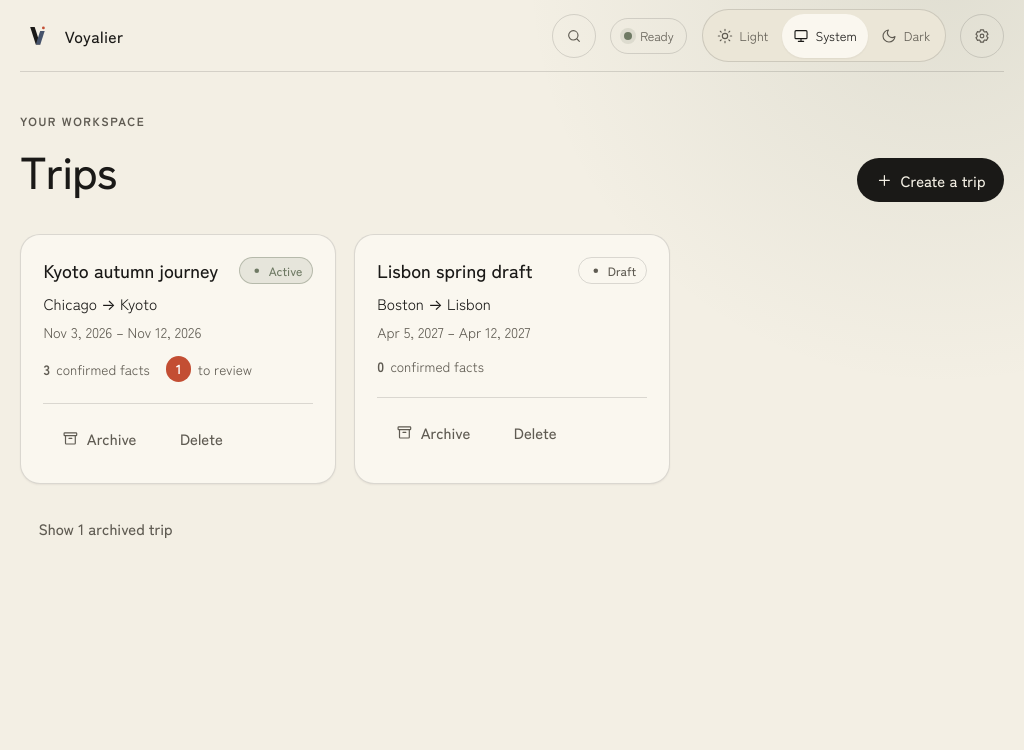
Test case: readiness › reads a single pending suggestion in the singular
Click the button with aria-label "Open Kyoto autumn journey": x=131, y=270 x1=43 y1=257 x2=218 y2=283
(page scrolled)
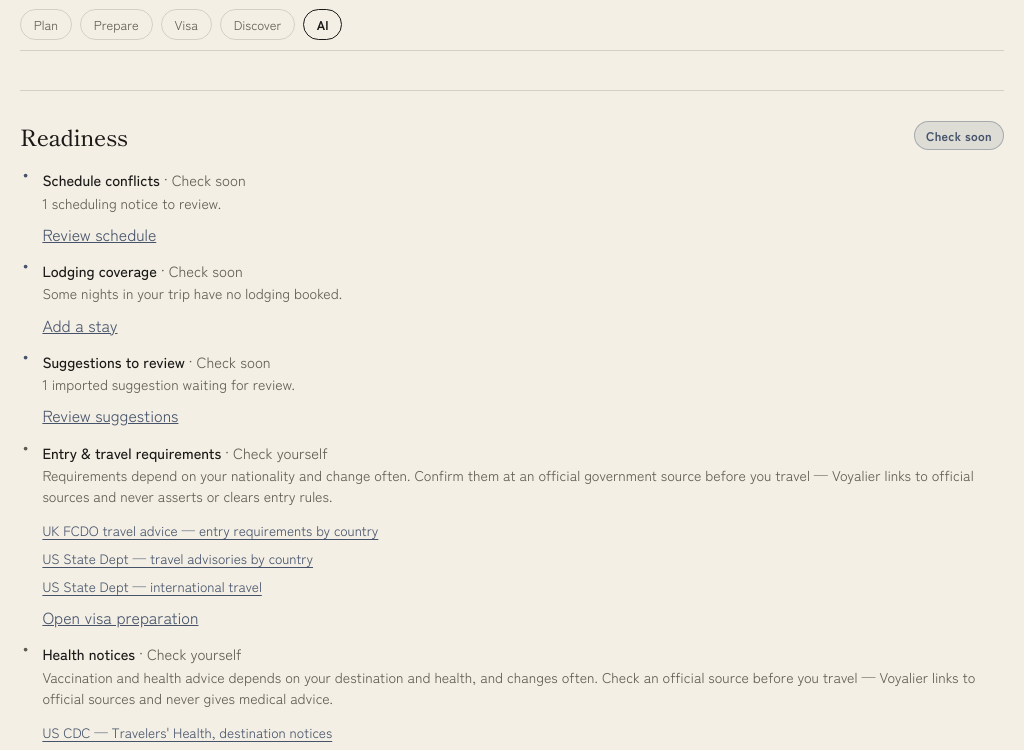
Now the text "1 imported suggestion waiting for review." is shown, box x1=42 y1=374 x2=295 y2=395
